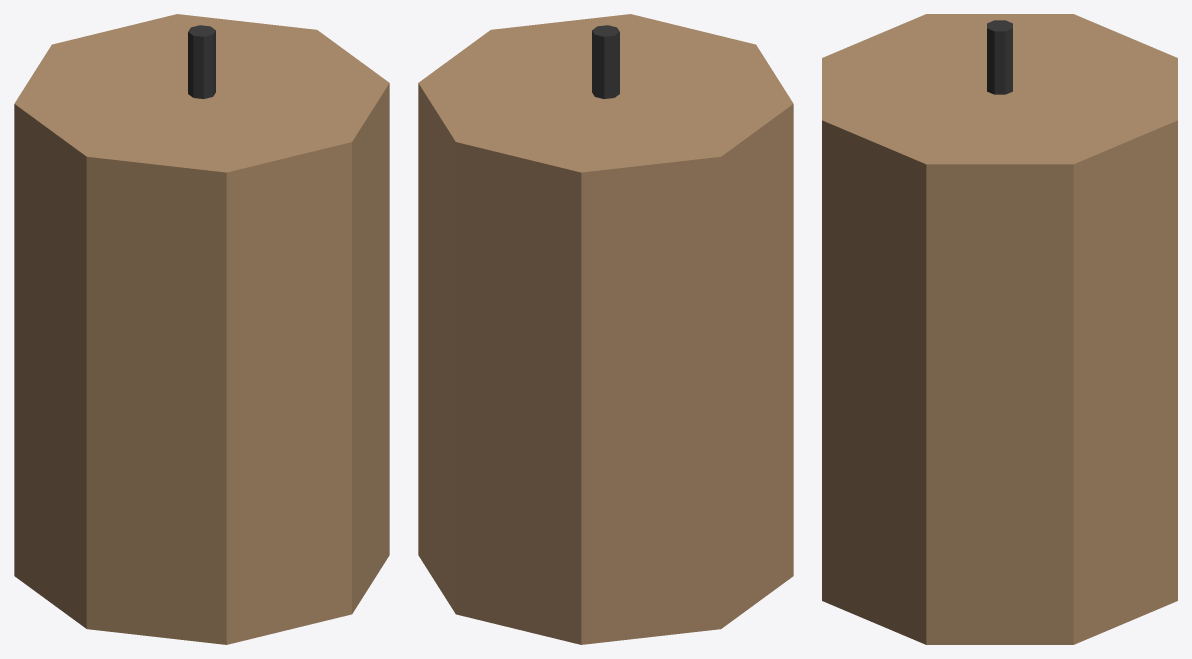
File: Candle_02.glb
The picture shows the model from 3 angles, left to right: view 1: azimuth 30°, elevation 25°; view 2: azimuth 150°, elevation 25°; view 3: azimuth 270°, elevation 25°; orthographic projection.
Parts seen in each view (by area): view 1: Candle_02; view 2: Candle_02; view 3: Candle_02.
Boxes of the visible parts, x1,y1,x2,y2 form: Candle_02: (14, 14, 389, 644); Candle_02: (418, 14, 793, 644); Candle_02: (822, 14, 1177, 644).
Bounding box in the file's own units: 0.0975 × 0.1645 × 0.0975.
1 material, 1 textured.
